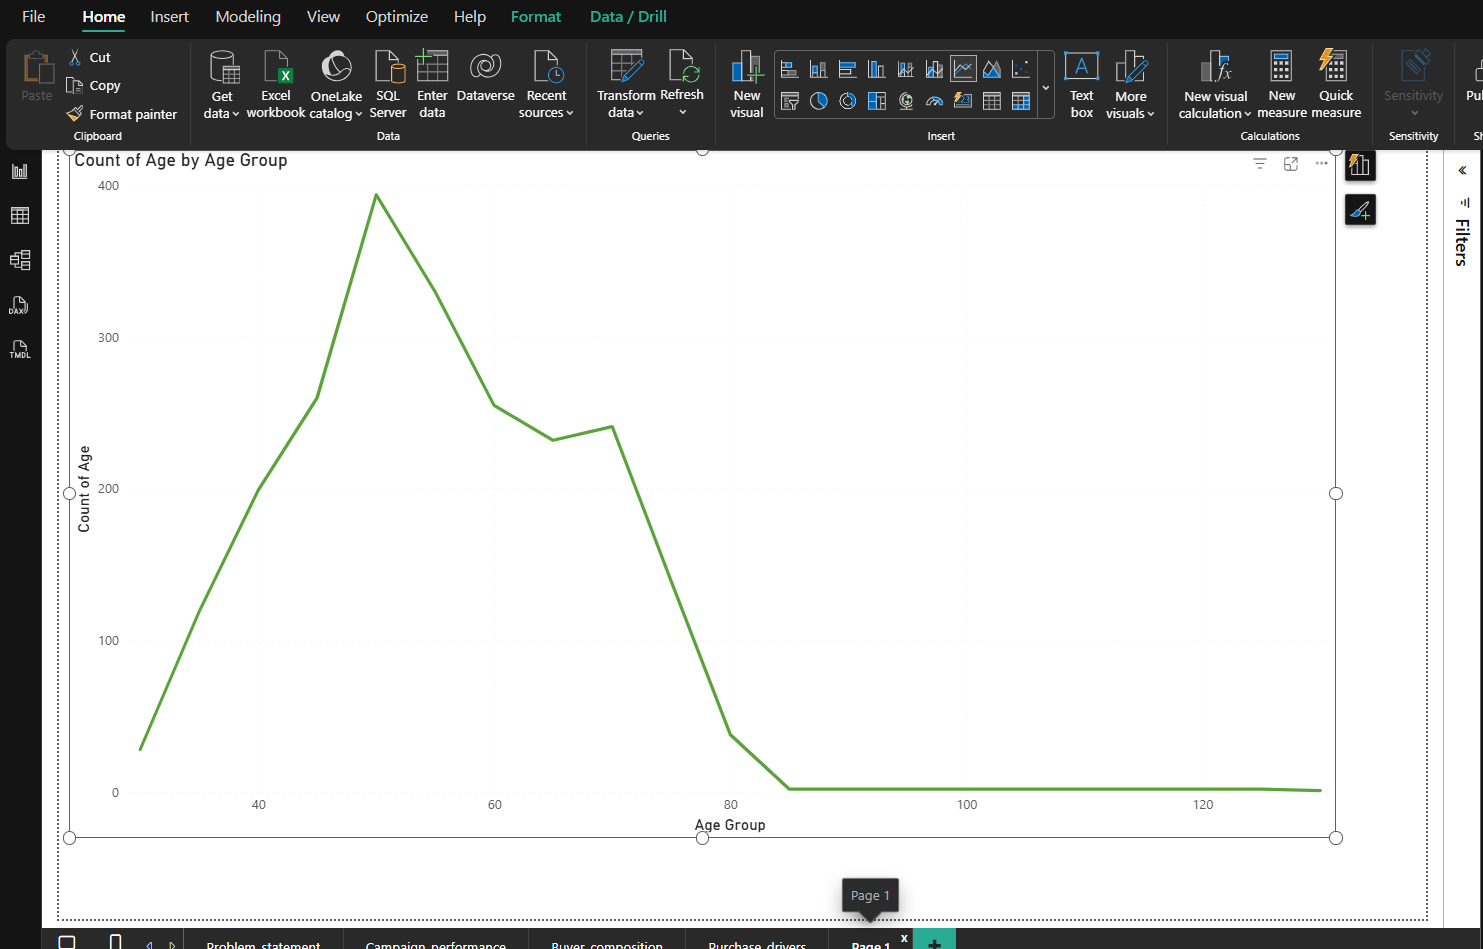

This screenshot's page, from the dashboard's own definition file:
{"tool":"powerbi","page":{"name":"Page 1","canvas":[1280,720],"ordinal":4},"visuals":[{"type":"lineChart","fields":{"Category":["Marketting_data.Age Group"],"Y":["CountNonNull(Marketting_data.Age)"]},"box":[9.5,0,1186.2,644],"z":0}]}

Visuals, with their boxes on the page's 1280x720 design canvas (x1, y1, x2, y2). These are canvas units, not pixel positions in the 1483x949 screenshot, which may show the page scaled, cropped or inside an application window:
lineChart - Marketting_data.Age Group x CountNonNull(Marketting_data.Age): (10, 0, 1196, 644)
